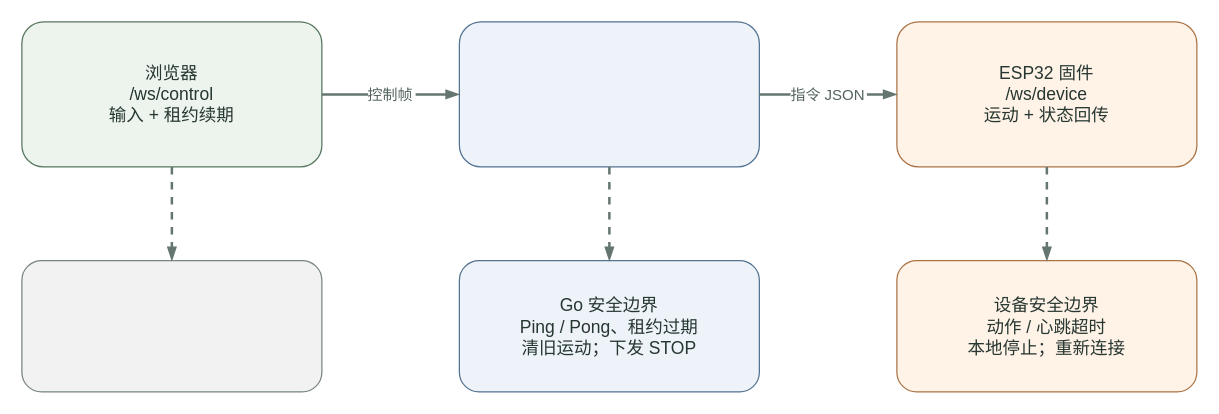
Some shapes in this 1219 by 414 pixel diagram are drawn without their labels. Each missing label, with the centre of its shape:
"Go 控制器 授权 + 租约 + 队列 指令路由" belongs at [608,94].
"浏览器断线 重连控制通道 续期或重取租约" belongs at [171,325].
